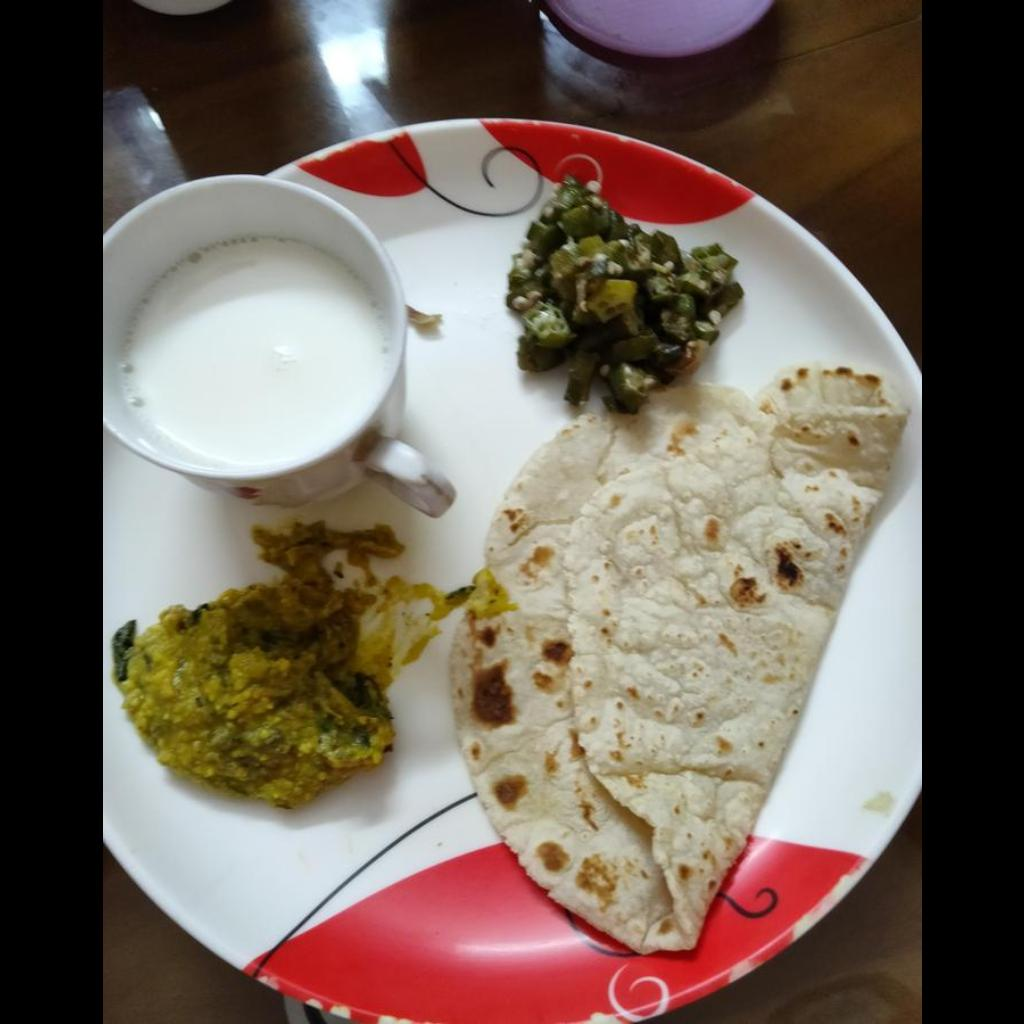daal: (120, 536, 385, 808)
milk: (125, 238, 387, 465)
okra: (506, 174, 741, 407)
ruti: (452, 369, 901, 951)
